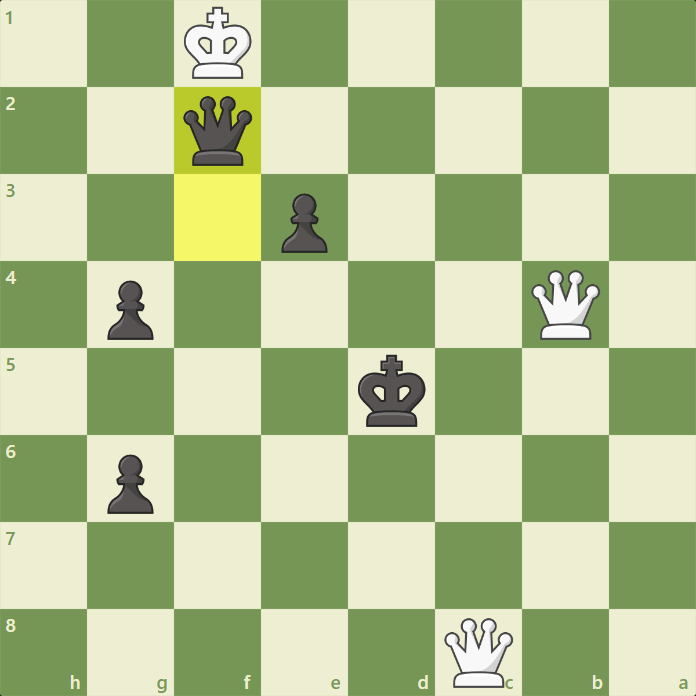K: (180, 4, 255, 81)
Q: (530, 267, 603, 343), (443, 616, 516, 691)
k: (357, 353, 427, 430)
p: (103, 278, 158, 345), (276, 191, 331, 258), (104, 452, 157, 518)
q: (180, 93, 255, 169)
